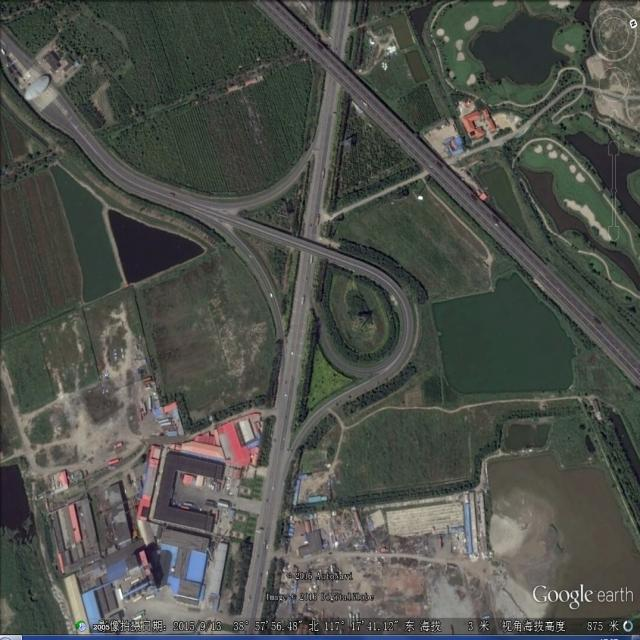overpass: (202, 127, 426, 482)
